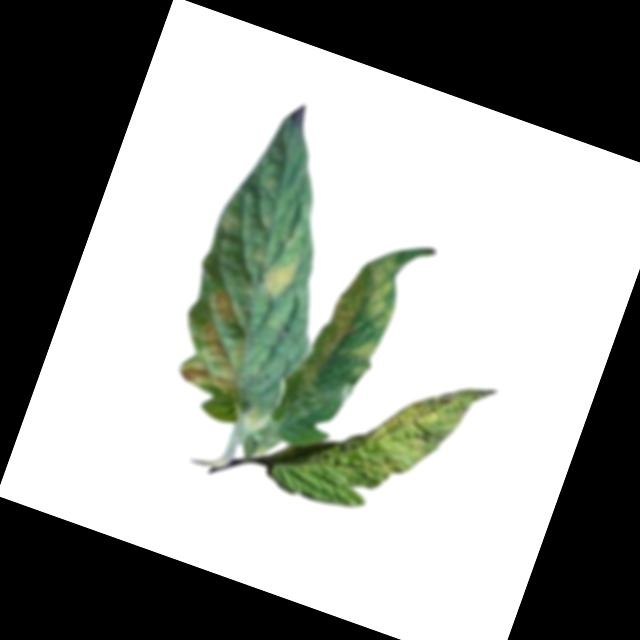Leaf_Mold: (344, 351, 498, 508), (297, 233, 413, 404), (170, 277, 271, 399), (255, 250, 303, 304)
